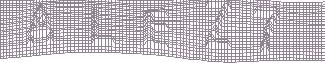7: (250, 4, 280, 55)
A: (25, 2, 56, 48)
E: (139, 7, 170, 51)
L: (89, 5, 117, 48)
Z: (203, 1, 234, 51)
